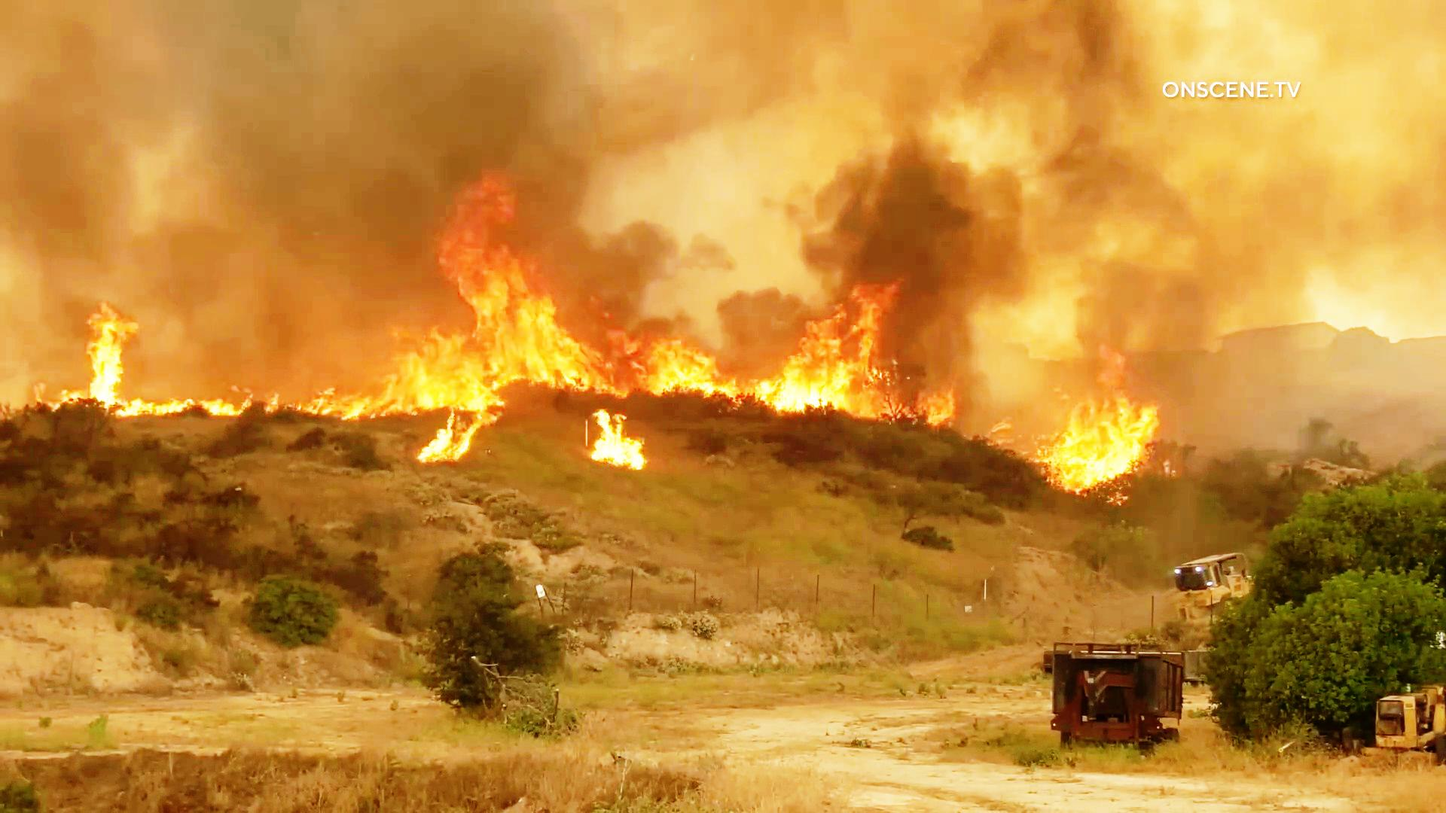fire: (381, 160, 593, 402), (774, 283, 921, 425), (1038, 373, 1179, 506), (51, 308, 151, 425)
smoke: (853, 70, 1026, 262)
